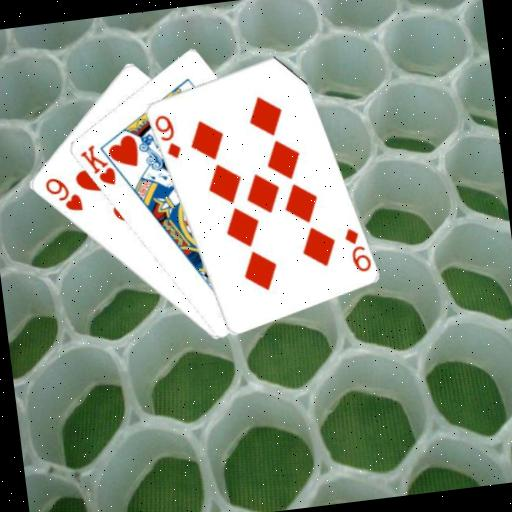9D: (150, 110, 183, 163), (340, 223, 373, 275)
9H: (40, 171, 85, 217)
KH: (75, 139, 118, 191)
